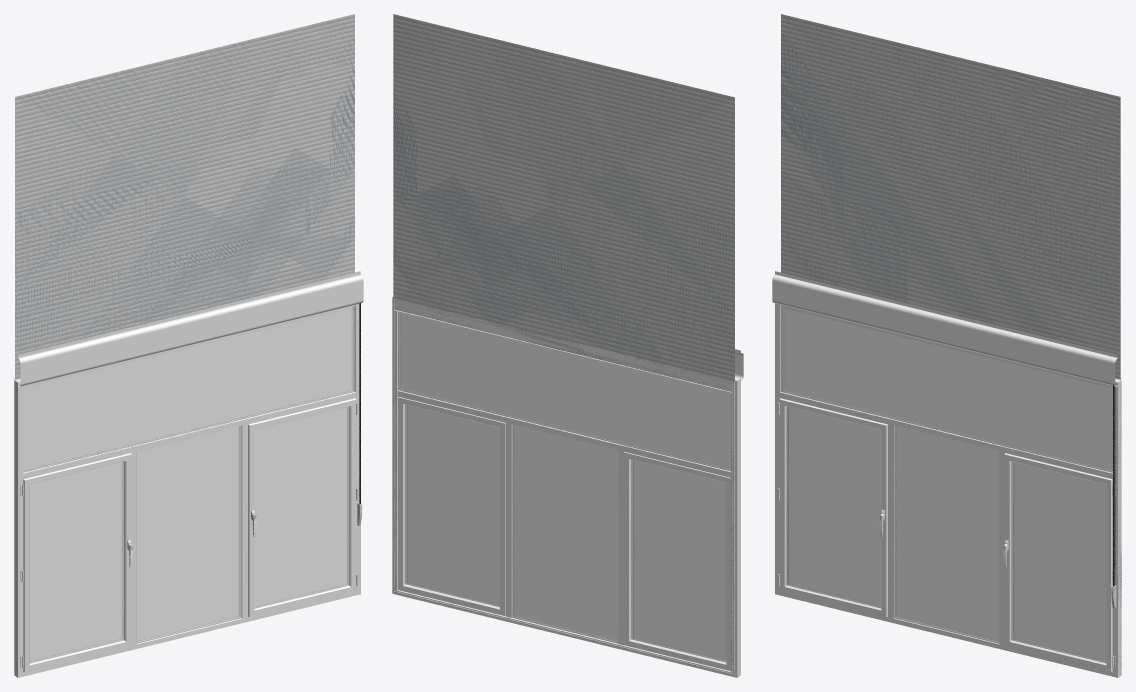
The model's file is Window4_220x200x[3 casement_blinds].dae.
The picture shows the model from 3 angles, left to right: view 1: azimuth 30°, elevation 25°; view 2: azimuth 150°, elevation 25°; view 3: azimuth 330°, elevation 25°; orthographic projection.
Visible parts, largest first — view 1: group_2 (×4), group_30, group_8 (×4), group_24, group_3 (×2), group_9 (×4); view 2: group_30 (×2), group_2 (×4), group_8 (×4), group_9 (×4), group_3 (×2), group_29 (×2); view 3: group_2 (×4), group_30, group_8 (×4), group_24, group_3 (×2), group_9 (×4).
Boxes of the visible parts, <box> form: group_2 (×4): <box>23,306,355,643</box>; group_30: <box>15,14,354,378</box>; group_8 (×4): <box>30,406,349,663</box>; group_24: <box>17,271,363,386</box>; group_3 (×2): <box>14,304,360,677</box>; group_9 (×4): <box>23,398,355,671</box>; group_30 (×2): <box>393,14,734,392</box>; group_2 (×4): <box>398,311,730,643</box>; group_8 (×4): <box>405,404,726,662</box>; group_9 (×4): <box>398,396,730,671</box>; group_3 (×2): <box>392,296,740,677</box>; group_29 (×2): <box>392,298,734,675</box>; group_2 (×4): <box>780,306,1112,643</box>; group_30: <box>781,14,1120,378</box>; group_8 (×4): <box>786,406,1106,663</box>; group_24: <box>772,271,1117,386</box>; group_3 (×2): <box>775,303,1121,677</box>; group_9 (×4): <box>780,398,1112,671</box>.
Bounding box in the file's own units: 86.63 × 4.16 × 139.
Materials: 12 (1 with a texture image).
